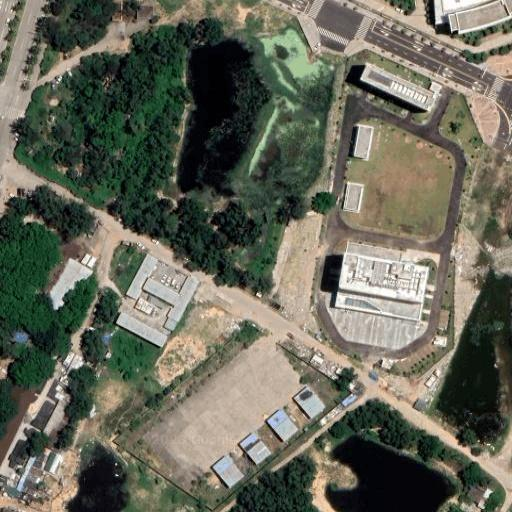building: (339, 254, 427, 302), (358, 66, 431, 110), (336, 289, 422, 320), (49, 259, 91, 310), (115, 311, 169, 348), (167, 276, 200, 323), (126, 253, 158, 299), (44, 399, 75, 438), (345, 243, 403, 263), (212, 454, 245, 488), (239, 431, 272, 465), (293, 385, 324, 419), (267, 409, 298, 441), (143, 279, 178, 304), (16, 454, 37, 492), (31, 401, 56, 431), (353, 125, 374, 156), (8, 439, 30, 465), (43, 452, 63, 476), (39, 430, 63, 450), (345, 183, 363, 209), (135, 298, 157, 316), (11, 327, 30, 346), (63, 350, 81, 370), (467, 486, 485, 503), (136, 6, 154, 20), (164, 317, 179, 331), (148, 296, 163, 310), (59, 373, 73, 387), (342, 393, 357, 406), (413, 399, 426, 412), (79, 253, 90, 267), (312, 354, 324, 366), (84, 256, 95, 269), (27, 473, 40, 484), (24, 480, 37, 491), (18, 491, 31, 502), (475, 483, 488, 494), (101, 332, 112, 344), (7, 487, 20, 497), (22, 487, 34, 496), (353, 380, 363, 390), (381, 360, 391, 370), (334, 367, 344, 376), (483, 489, 492, 499), (478, 497, 486, 507), (348, 383, 355, 390)
